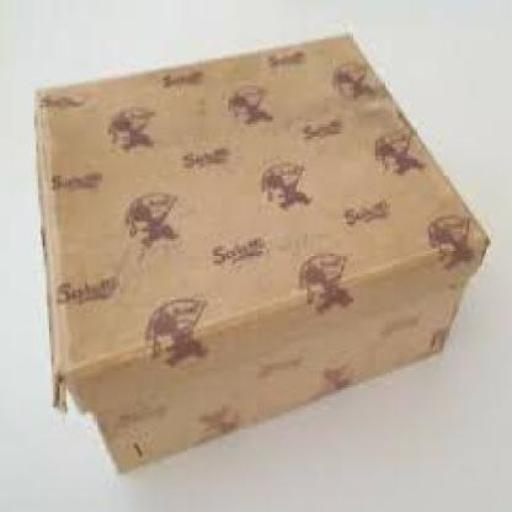cardboard: (30, 29, 484, 468)
